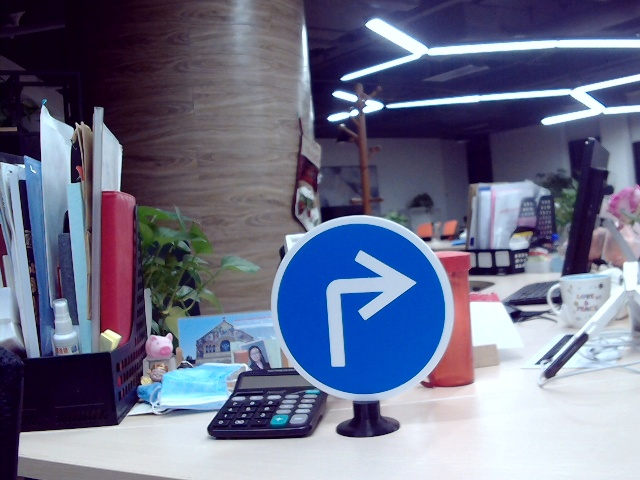turn_right: (314, 248, 418, 368)
